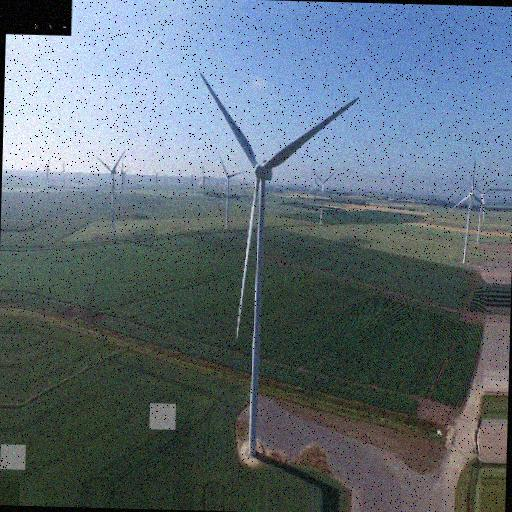wind turbine: (195, 69, 360, 455), (450, 159, 488, 262), (94, 149, 125, 239), (216, 157, 245, 233)
